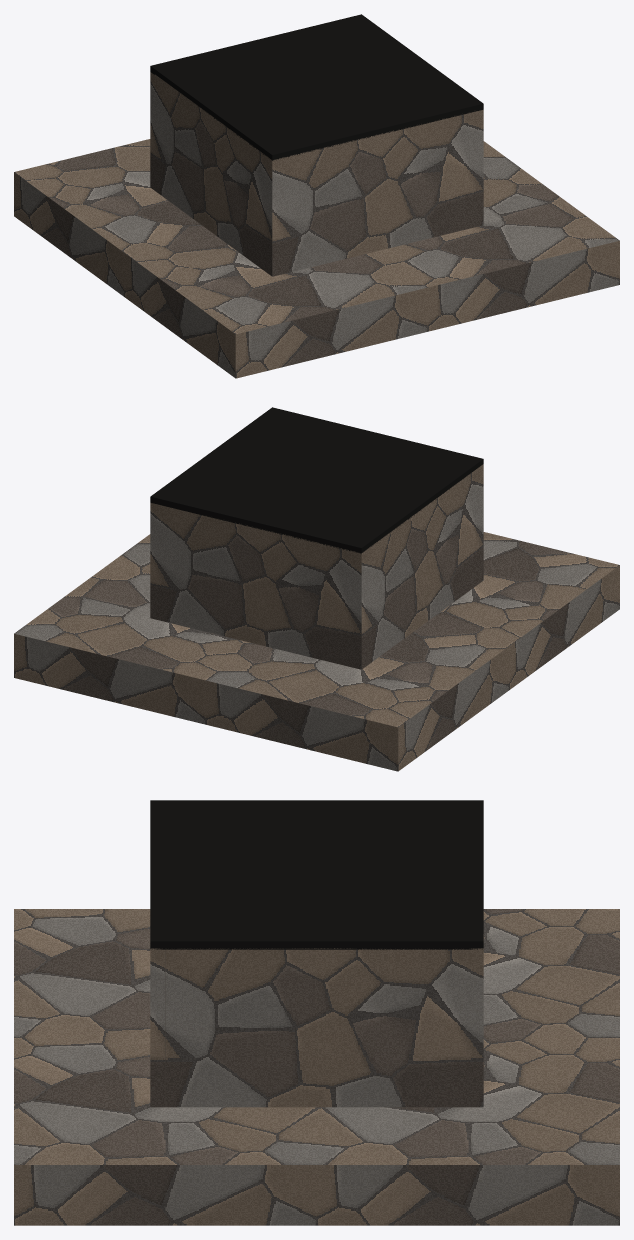
File: mine_ceiling_shaft.glb
3 renders of one model, top to bottom at view 1: azimuth 30°, elevation 25°; view 2: azimuth 150°, elevation 25°; view 3: azimuth 270°, elevation 25°, orthographic. The views are drawn at different scales.
Parts seen in each view (by area): view 1: mine_ceiling_shaft; view 2: mine_ceiling_shaft; view 3: mine_ceiling_shaft.
Boxes of the visible parts, bbox=[...] form: mine_ceiling_shaft: bbox=[14, 14, 619, 378]; mine_ceiling_shaft: bbox=[14, 407, 619, 771]; mine_ceiling_shaft: bbox=[14, 800, 619, 1225].
Size of what is drawn, in the model's own units: 4 by 1.83 by 4.
Materials: 3 (1 with a texture image).
